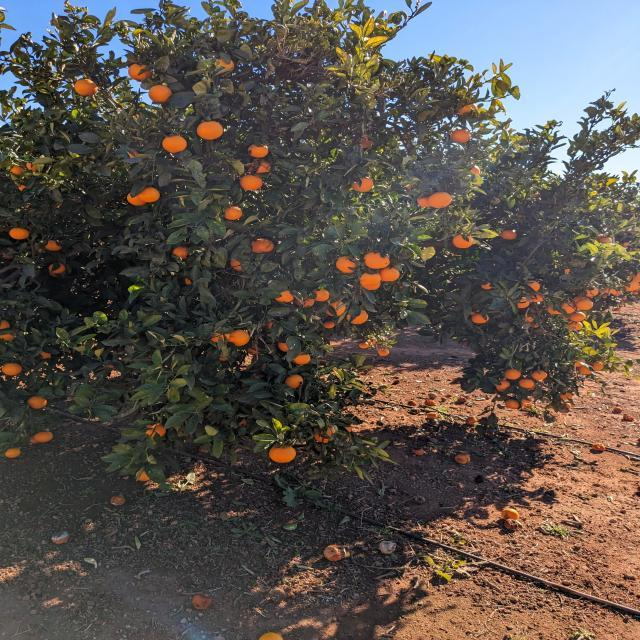Jeruk Sudah Matang: (197, 122, 226, 141), (163, 136, 189, 154), (72, 78, 98, 96), (268, 447, 296, 463), (427, 192, 454, 208), (363, 252, 389, 268), (360, 272, 383, 290), (241, 175, 263, 192), (139, 188, 162, 204), (153, 82, 173, 100), (250, 239, 274, 254), (337, 256, 357, 274), (130, 62, 150, 80), (192, 594, 214, 610), (229, 331, 250, 347), (352, 178, 376, 192), (450, 130, 472, 145), (452, 236, 473, 251), (28, 396, 48, 411), (250, 161, 272, 174), (224, 207, 244, 221), (26, 159, 46, 173), (250, 145, 268, 160), (316, 428, 334, 443), (10, 227, 30, 240), (33, 431, 53, 444), (1, 364, 22, 376), (6, 162, 24, 176), (150, 424, 167, 438), (286, 375, 302, 389), (278, 290, 294, 304), (384, 268, 402, 280), (576, 298, 594, 310), (356, 310, 371, 324), (217, 59, 234, 71), (176, 245, 190, 259), (294, 354, 310, 366), (460, 104, 477, 115), (211, 332, 224, 346), (318, 288, 333, 300), (470, 312, 485, 324), (1, 332, 16, 344), (456, 453, 472, 464), (562, 302, 576, 314), (570, 312, 586, 322), (504, 399, 520, 409), (230, 258, 243, 270), (55, 262, 68, 274), (46, 240, 60, 251), (506, 369, 520, 380), (5, 448, 20, 458), (501, 230, 516, 240), (495, 380, 510, 390), (625, 282, 640, 292), (336, 303, 348, 315), (520, 380, 534, 390), (526, 281, 540, 291), (419, 196, 431, 207), (16, 182, 28, 193), (278, 342, 290, 353), (568, 322, 582, 331), (518, 297, 529, 308), (110, 494, 122, 504), (138, 470, 150, 480), (220, 350, 230, 362), (532, 370, 544, 380), (529, 294, 544, 302), (547, 306, 562, 314), (592, 362, 604, 372), (472, 164, 482, 176), (578, 367, 592, 375), (246, 348, 259, 356), (586, 288, 599, 296), (631, 272, 640, 283), (572, 359, 586, 366), (482, 282, 494, 290), (377, 349, 390, 356), (1, 322, 10, 332), (40, 352, 50, 359), (359, 342, 368, 348)
